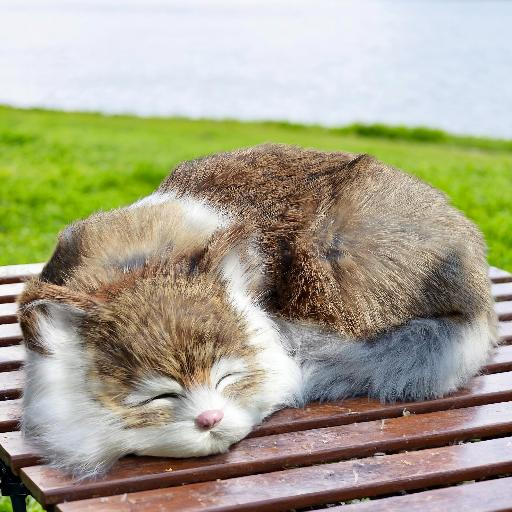cat_sleeping: (17, 143, 500, 484)
